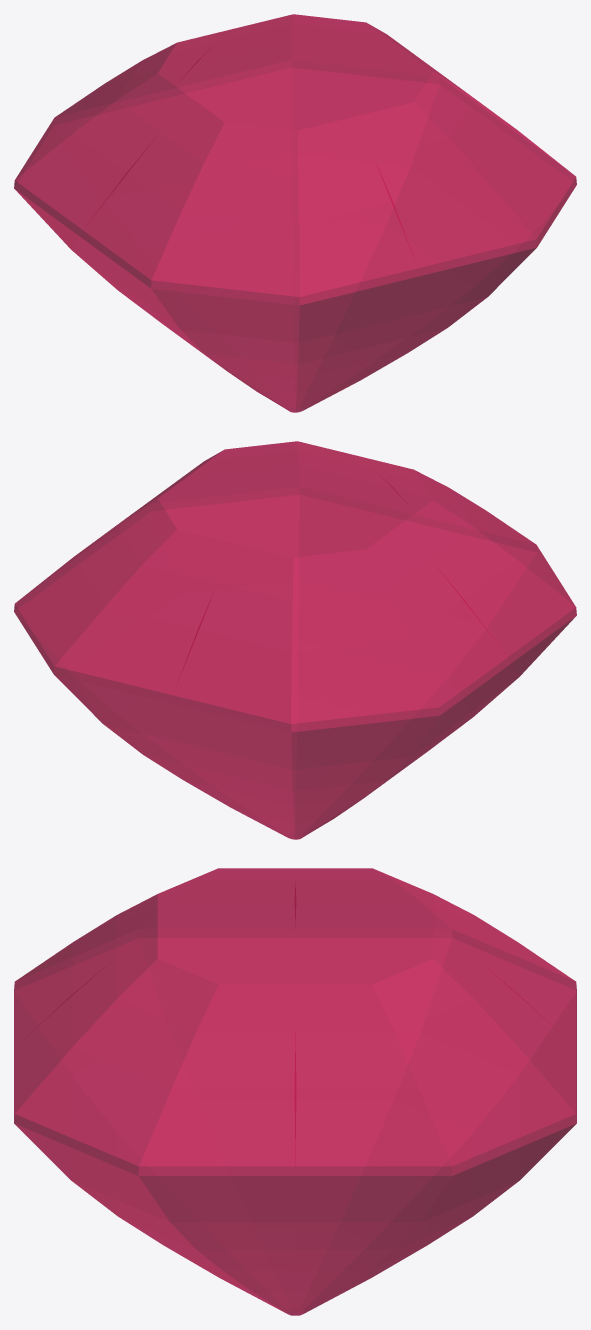
Rendered from assher spinell.glb.
3 renders of one model, top to bottom at view 1: azimuth 30°, elevation 25°; view 2: azimuth 150°, elevation 25°; view 3: azimuth 270°, elevation 25°, orthographic. The views are drawn at different scales.
Parts seen in each view (by area): view 1: Asscher.001; view 2: Asscher.001; view 3: Asscher.001.
Part boxes in pixels (box(x1,y1,x2,y2)): Asscher.001: box(14, 14, 576, 412); Asscher.001: box(14, 441, 576, 839); Asscher.001: box(14, 868, 576, 1315).
Size of the model in its own units: 1.5 by 1.14 by 1.5.
